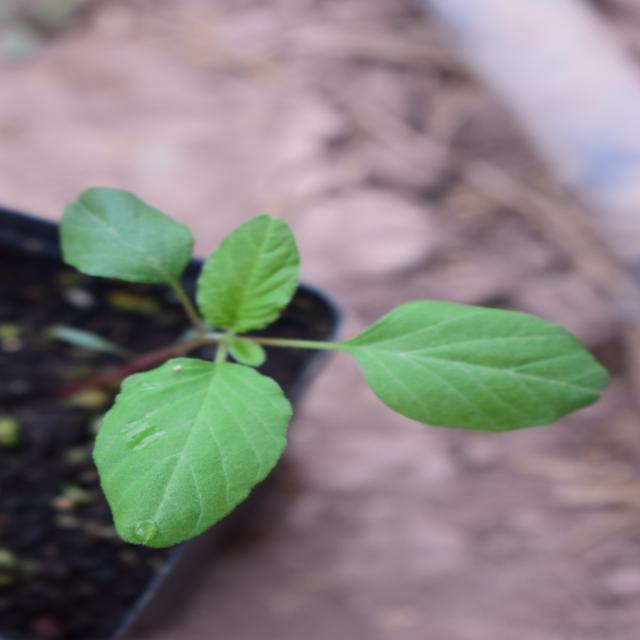pigweed: (80, 79, 456, 591)
